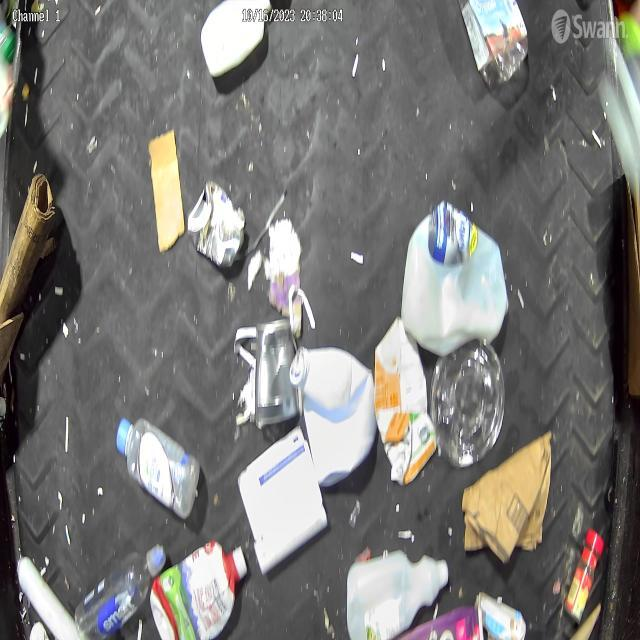can: (252, 317, 304, 433), (186, 174, 247, 270)
milk_jug: (400, 206, 509, 360), (286, 338, 381, 496)
plastic_bottle: (114, 408, 201, 516), (75, 541, 169, 640)
